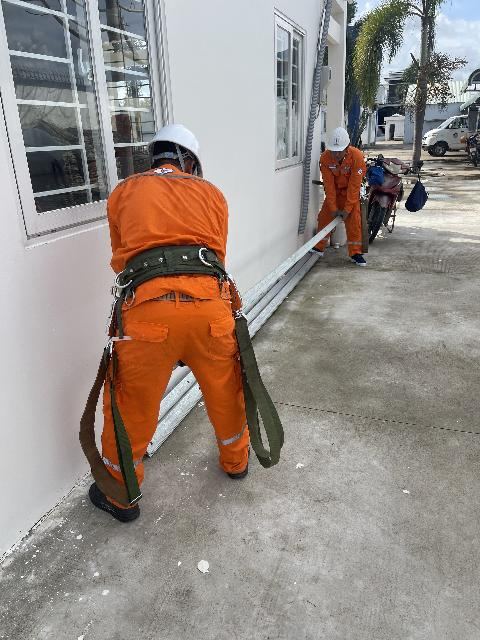harness: (106, 245, 245, 282)
helmet: (135, 117, 225, 171), (319, 125, 361, 154)
shoes: (87, 485, 148, 525), (347, 252, 370, 268), (303, 244, 329, 258)
